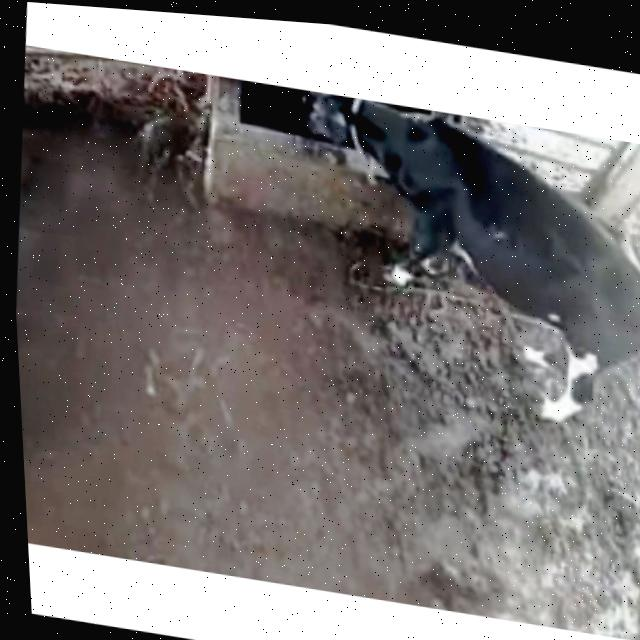drink: (280, 87, 466, 214)
